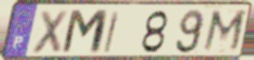8: (141, 9, 170, 54)
9: (173, 8, 206, 56)
I: (102, 11, 122, 54)
M: (59, 9, 111, 56), (200, 9, 249, 54)
X: (29, 9, 71, 56)
